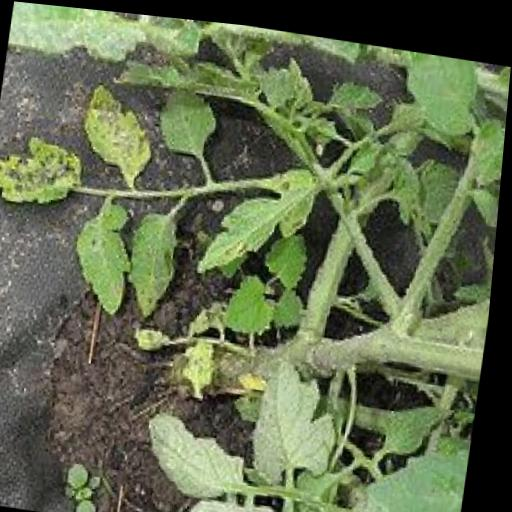Septoria: (72, 71, 163, 193), (0, 132, 91, 219)
